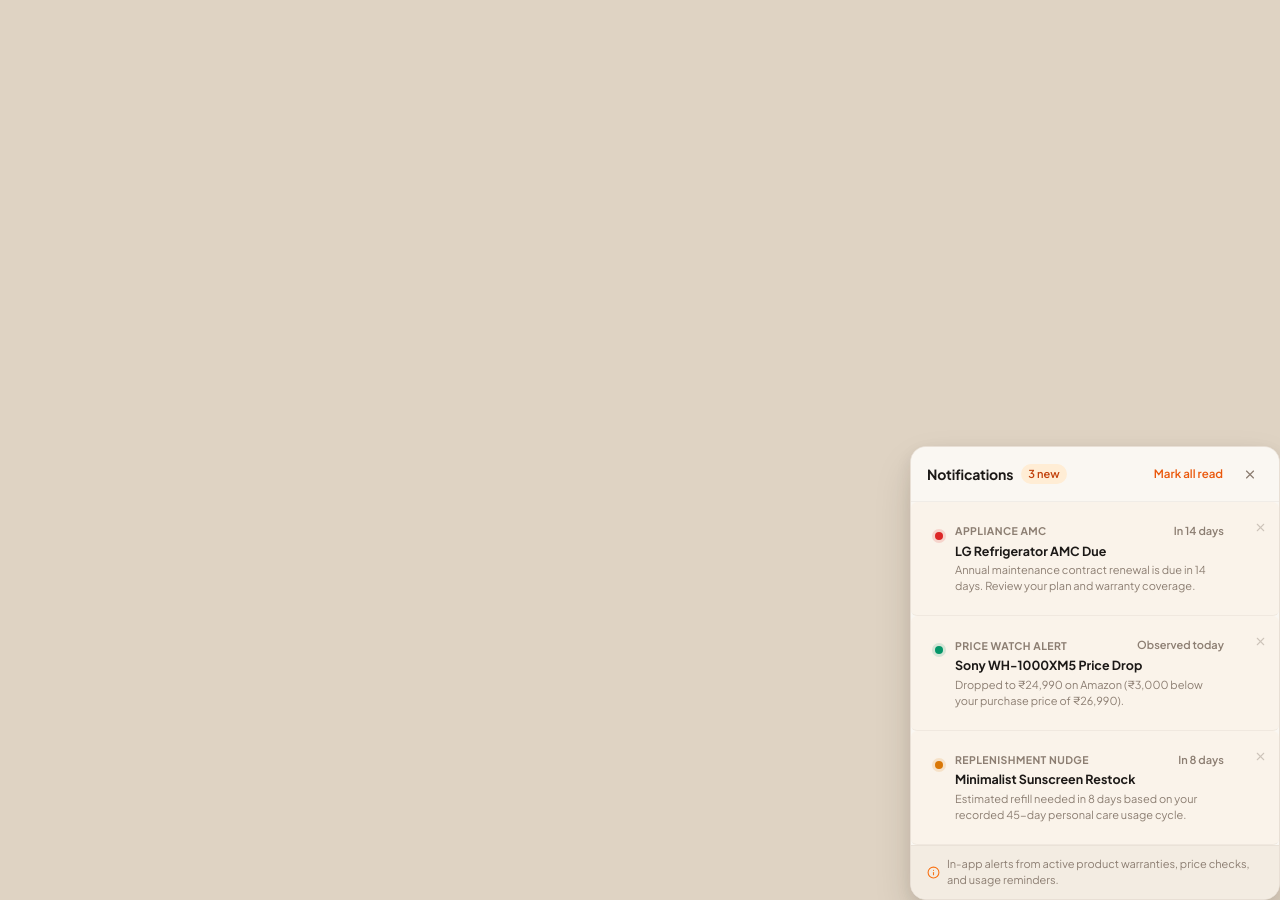
Test case: NotificationCenter › marks all notifications as read when clicking 'Mark all read'
(page scrolled)
Click the button "Mark all read": (1188, 474) left=1148, top=461, right=1229, bottom=487
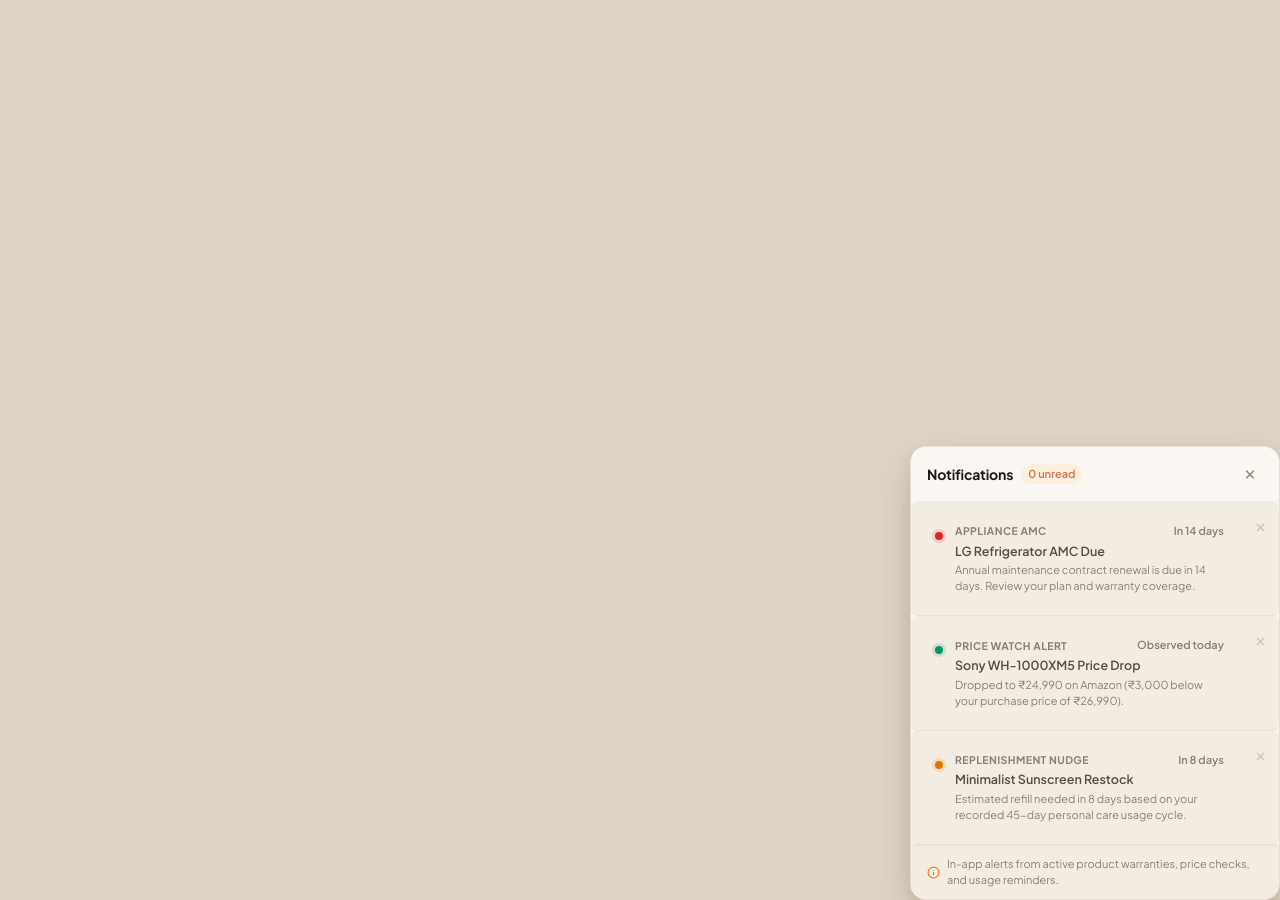
Expected: the button "Mark all read" is gone
